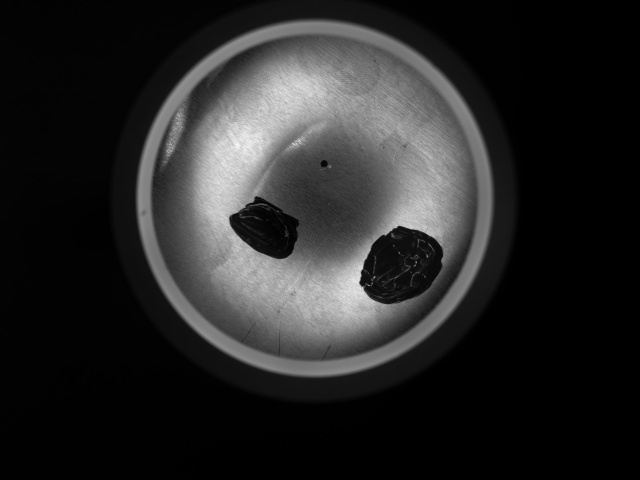zang_wu: (355, 223, 445, 306), (225, 194, 302, 263)
zhen_kong: (317, 155, 330, 173)
